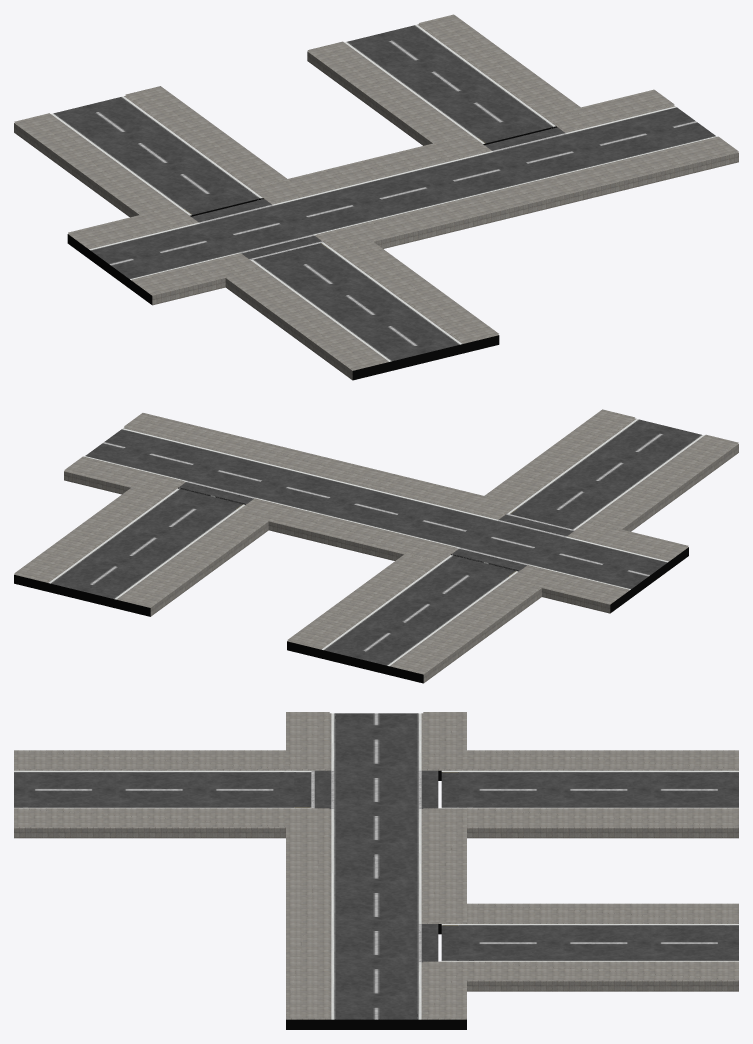
Rendered from doubleCrossLeft_2.fbx.
3 renders of one model, top to bottom at view 1: azimuth 30°, elevation 25°; view 2: azimuth 150°, elevation 25°; view 3: azimuth 270°, elevation 25°, orthographic. The views are drawn at different scales.
Visible parts, largest first — view 1: materialH150, materialA150, materialB150, materialE150, materialC150, materialD150; view 2: materialH150, materialA150, materialB150, materialE150, materialC150, materialD150; view 3: materialH150, materialA150, materialE150, materialC150, materialB150, materialD150.
Part boxes in pixels (left/top/right/bottom): materialH150: left=14, top=14, right=738, bottom=379; materialA150: left=51, top=24, right=716, bottom=361; materialB150: left=67, top=126, right=557, bottom=380; materialE150: left=182, top=120, right=555, bottom=265; materialC150: left=191, top=127, right=564, bottom=258; materialD150: left=199, top=127, right=566, bottom=260; materialH150: left=14, top=409, right=738, bottom=682; materialA150: left=48, top=419, right=704, bottom=666; materialB150: left=14, top=487, right=688, bottom=683; materialE150: left=170, top=488, right=582, bottom=576; materialC150: left=179, top=482, right=573, bottom=570; materialD150: left=180, top=481, right=574, bottom=570; materialH150: left=14, top=712, right=738, bottom=1019; materialA150: left=14, top=713, right=738, bottom=1019; materialE150: left=294, top=770, right=458, bottom=961; materialC150: left=314, top=770, right=438, bottom=962; materialB150: left=286, top=770, right=466, bottom=1029; materialD150: left=311, top=770, right=421, bottom=962.
Size of the model in its own units: 102 by 1.8 by 102.
